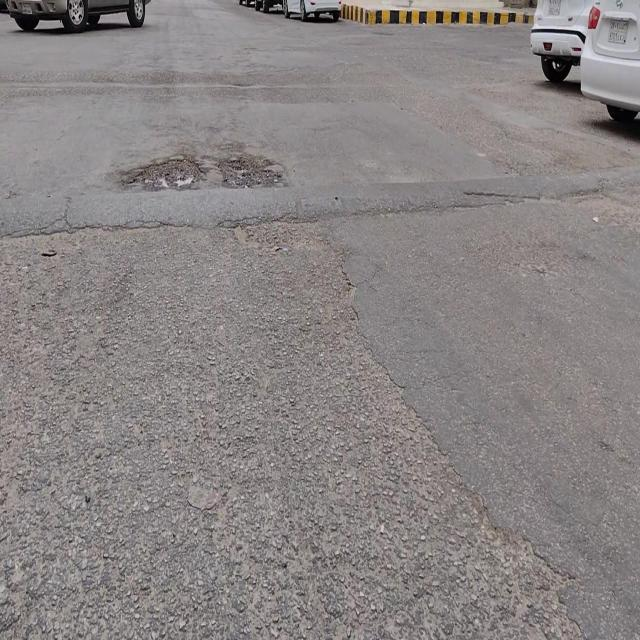Potholes: (123, 159, 205, 190), (220, 154, 284, 187)
